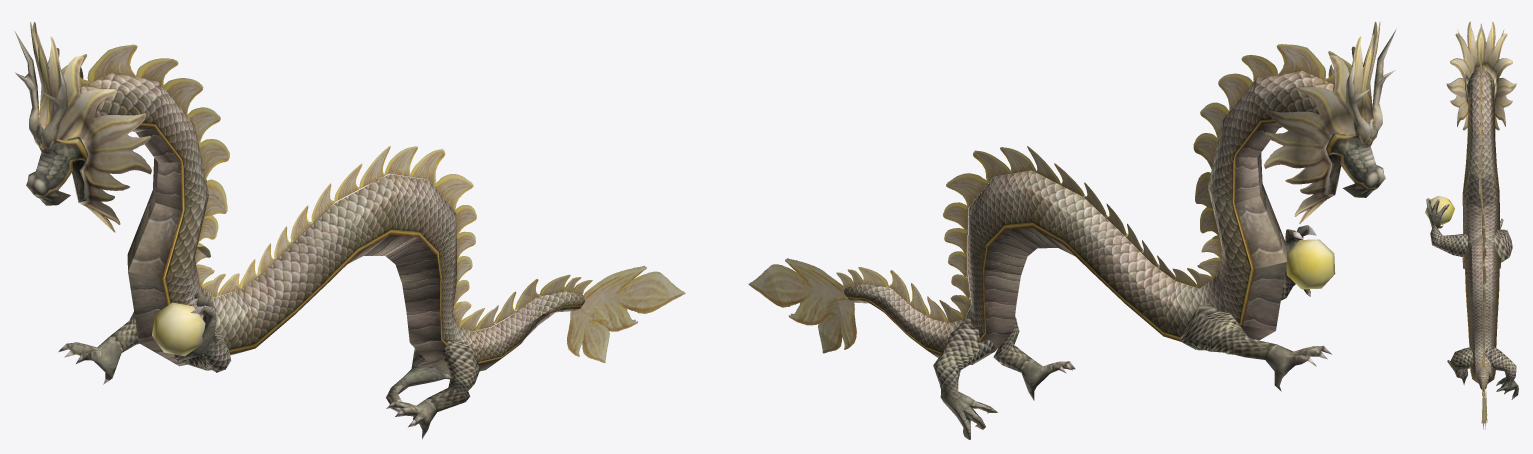
Rendered from W3_HD_GongHuiBoss_long_01_D.FBX.
The picture shows the model from 3 angles, left to right: view 1: azimuth 30°, elevation 25°; view 2: azimuth 150°, elevation 25°; view 3: azimuth 270°, elevation 25°; orthographic projection. The views are drawn at different scales.
Parts seen in each view (by area): view 1: W3_HD_GongHuiBoss_long_01_01_D, W3_HD_GongHuiBoss_long_01_02_D; view 2: W3_HD_GongHuiBoss_long_01_01_D, W3_HD_GongHuiBoss_long_01_02_D; view 3: W3_HD_GongHuiBoss_long_01_01_D, W3_HD_GongHuiBoss_long_01_02_D.
Boxes of the visible parts, <box> form: W3_HD_GongHuiBoss_long_01_01_D: <box>14,31,584,439</box>; W3_HD_GongHuiBoss_long_01_02_D: <box>30,22,685,362</box>; W3_HD_GongHuiBoss_long_01_01_D: <box>844,29,1396,439</box>; W3_HD_GongHuiBoss_long_01_02_D: <box>748,21,1380,353</box>; W3_HD_GongHuiBoss_long_01_01_D: <box>1425,29,1518,399</box>; W3_HD_GongHuiBoss_long_01_02_D: <box>1446,21,1516,429</box>.
Size of the model in its own units: 42.16 by 30.43 by 9.25.
2 materials, 2 textured.
